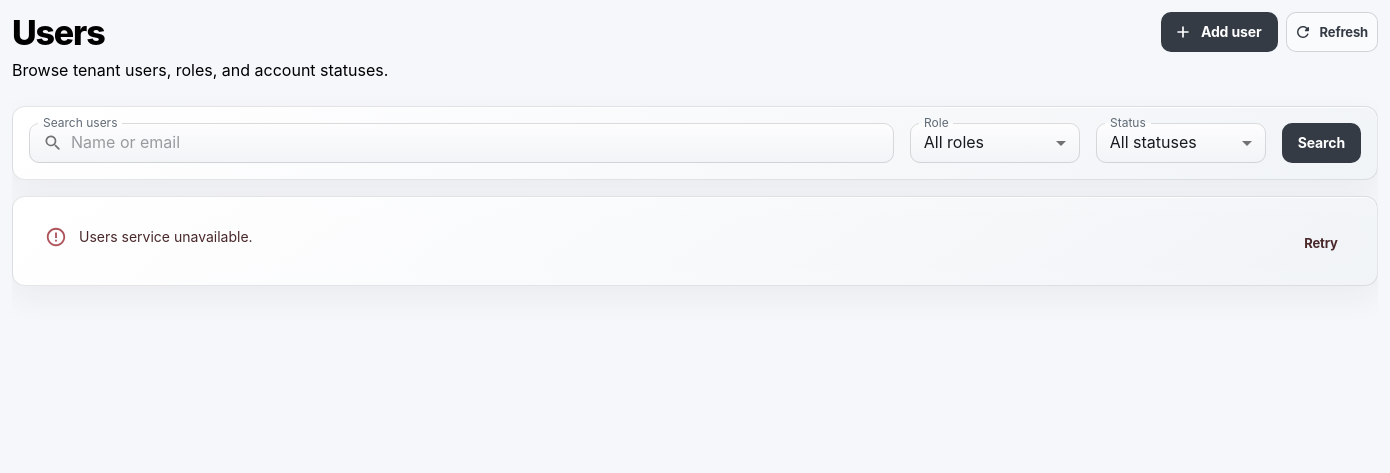
Test: UsersPage › retries after the users request fails
Expected: the text "Users service unavailable." is shown, 79,228 -> 253,245
Click the button "Retry": x=1321, y=243 1289,223 -> 1353,263
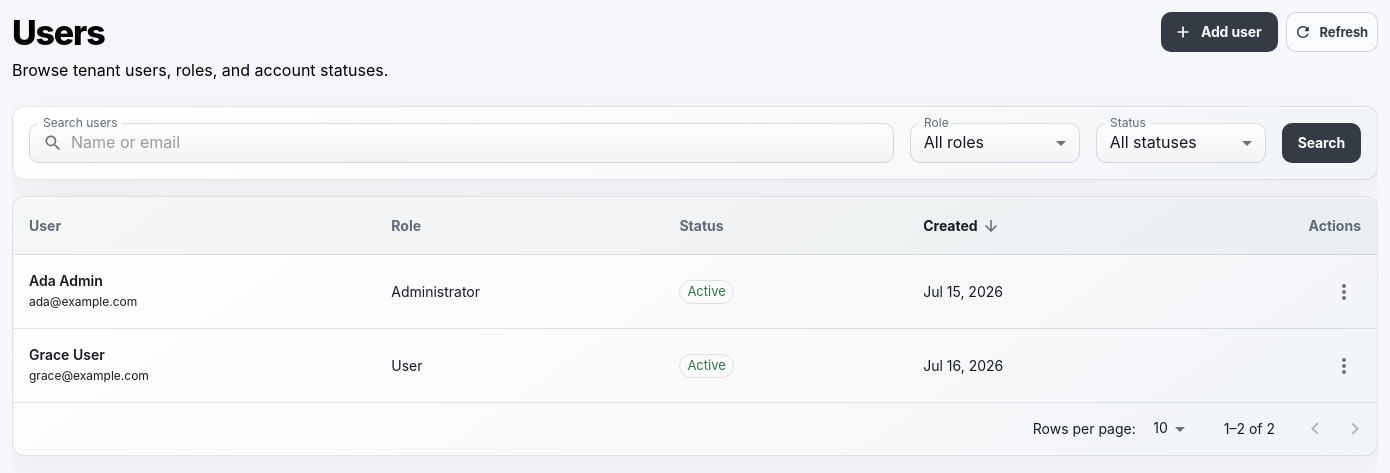
Expected: the text "Ada Admin" is shown, 29,272 -> 103,289
